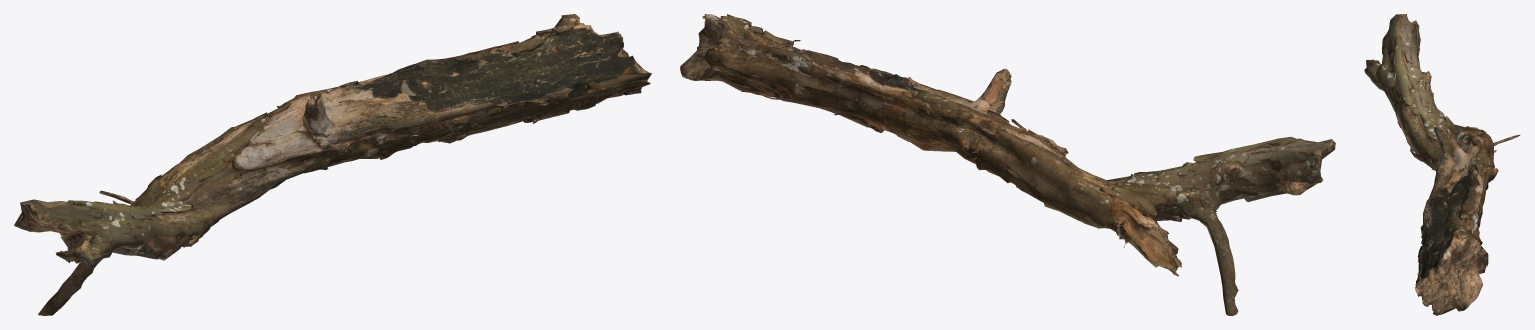
Rendered from log_big.glb.
3 renders of one model, left to right at view 1: azimuth 30°, elevation 25°; view 2: azimuth 150°, elevation 25°; view 3: azimuth 270°, elevation 25°, orthographic. The views are drawn at different scales.
Visible parts, largest first — view 1: log_big; view 2: log_big; view 3: log_big.
Boxes of the visible parts, bbox=[...] form: log_big: bbox=[14, 14, 651, 315]; log_big: bbox=[680, 14, 1335, 315]; log_big: bbox=[1364, 14, 1520, 315].
Bounding box in the file's own units: 4.05 × 1.06 × 1.05.
Materials: 1 (1 with a texture image).
